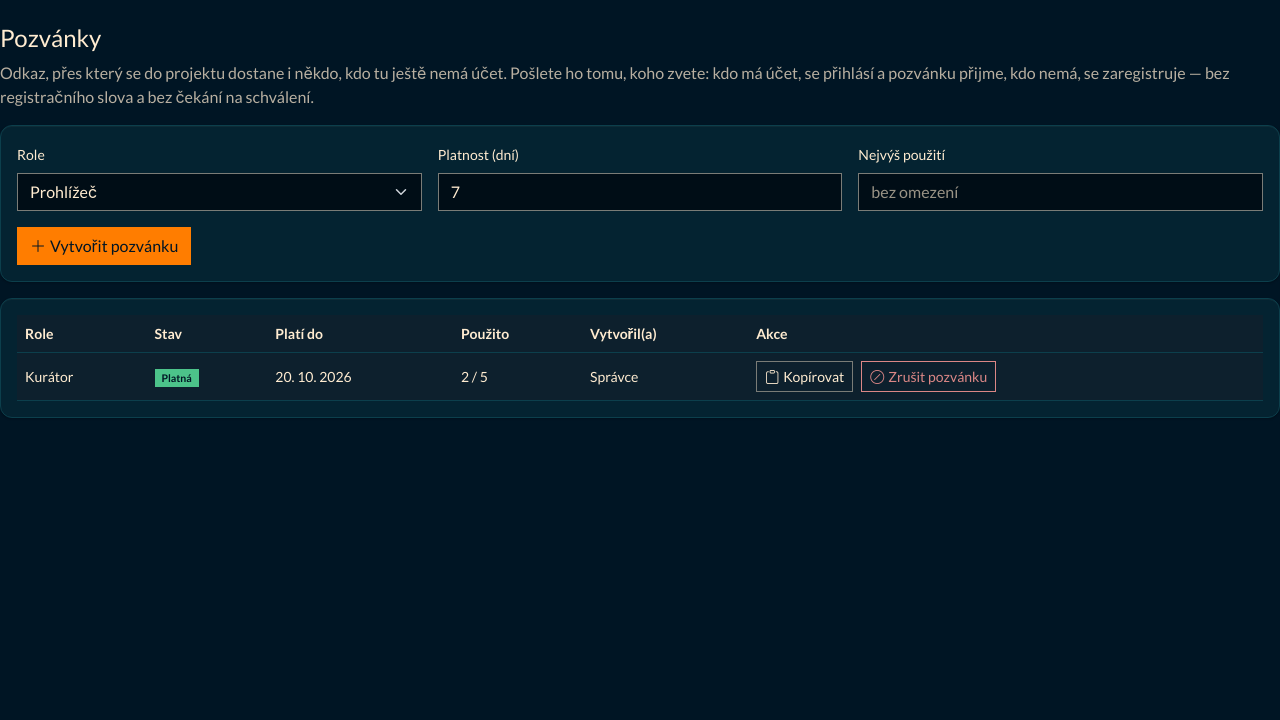
Test: InvitesSection › revokes an invite after a confirmation
The image size is (1280, 720).
Click the button "Zrušit pozvánku". click: (929, 376)
box: [861,361,996,392]
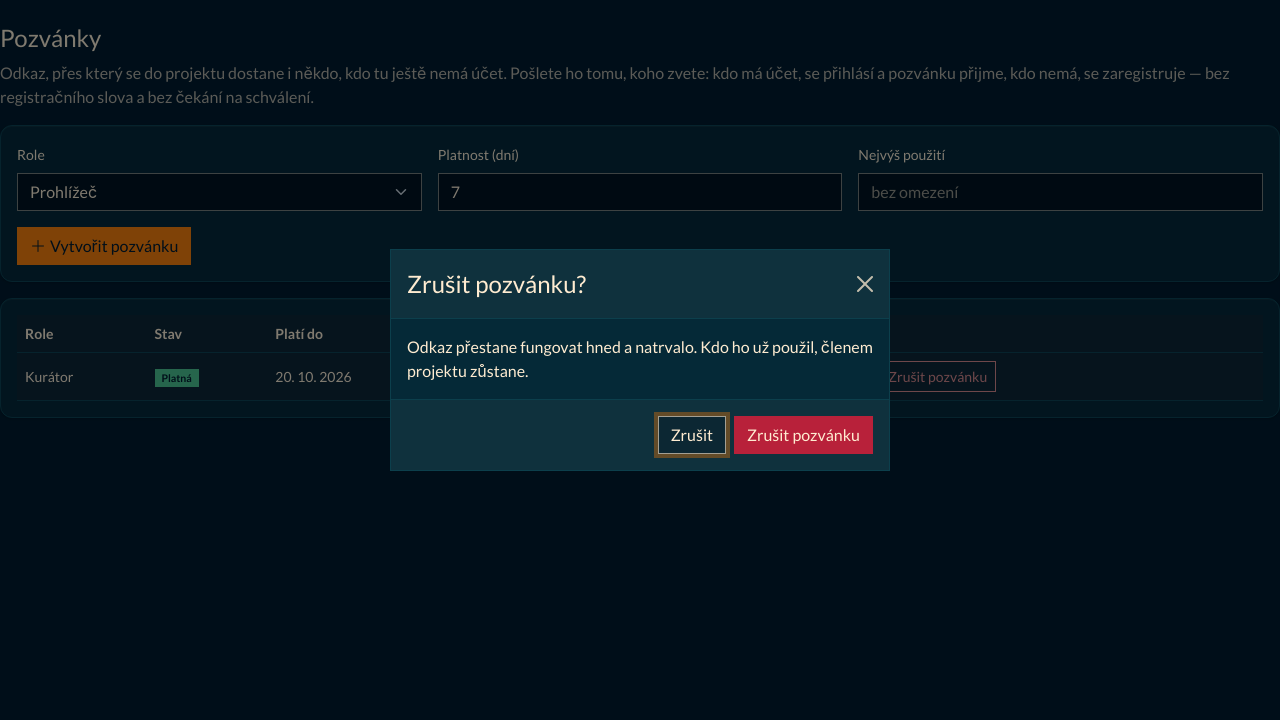
Click the button "Zrušit pozvánku". click: (804, 435)
box: [734,416,873,454]
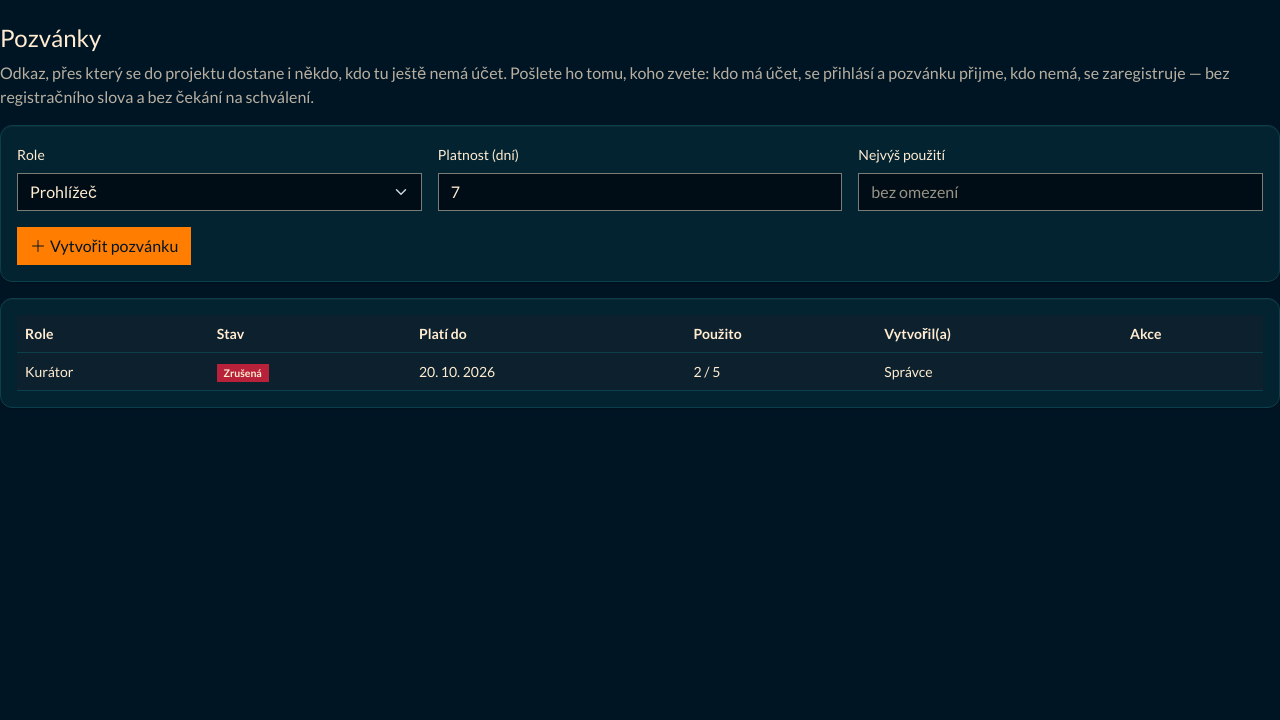
Expected: the button "Kopírovat" is not shown
Result: the text "Zrušená" is shown at [217,364,269,382]
